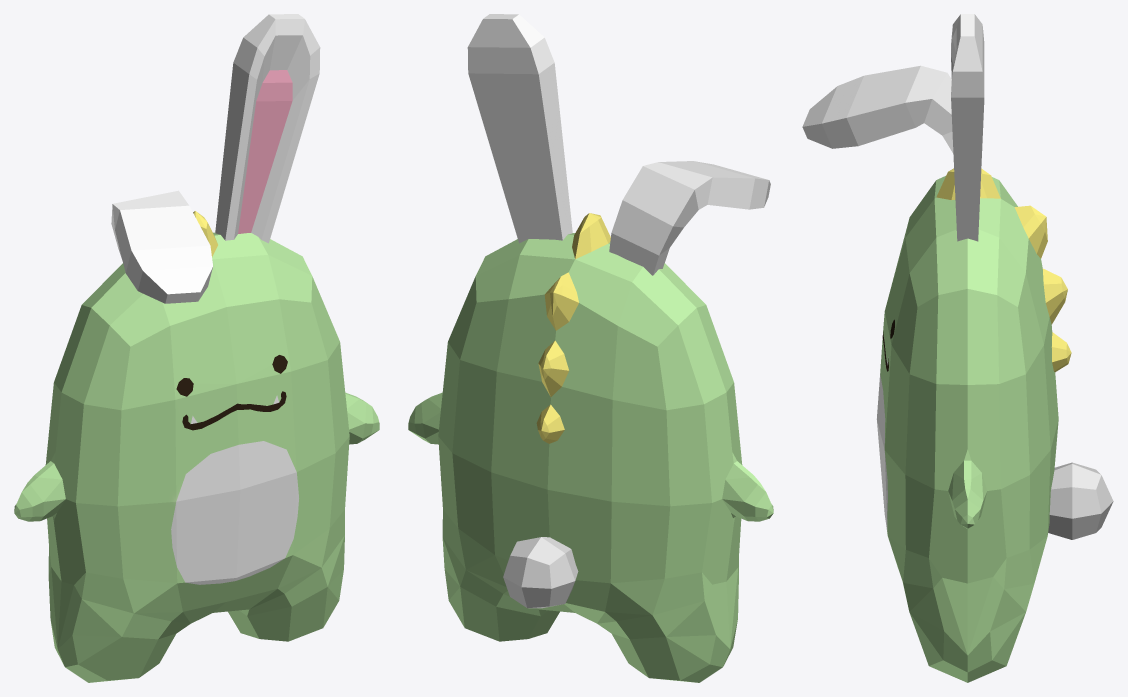
The model's file is 토끼꽁룡.fbx.
3 views of the same model, side by side, from view 1: azimuth 30°, elevation 25°; view 2: azimuth 150°, elevation 25°; view 3: azimuth 270°, elevation 25° (orthographic). The views are drawn at different scales.
Parts seen in each view (by area): view 1: Cube, Cube.013; view 2: Cube, Cube.013, Cube.014; view 3: Cube, Cube.013, Cube.014.
Boxes of the visible parts, left/top/right/bottom form: Cube: left=14, top=211, right=379, bottom=682; Cube.013: left=111, top=14, right=320, bottom=303; Cube: left=408, top=213, right=773, bottom=682; Cube.013: left=467, top=14, right=770, bottom=275; Cube.014: left=503, top=537, right=578, bottom=608; Cube: left=876, top=168, right=1071, bottom=682; Cube.013: left=802, top=14, right=984, bottom=241; Cube.014: left=1048, top=462, right=1113, bottom=539.
Size of the model in its own units: 338 by 549 by 237.
3 materials, 2 textured.
